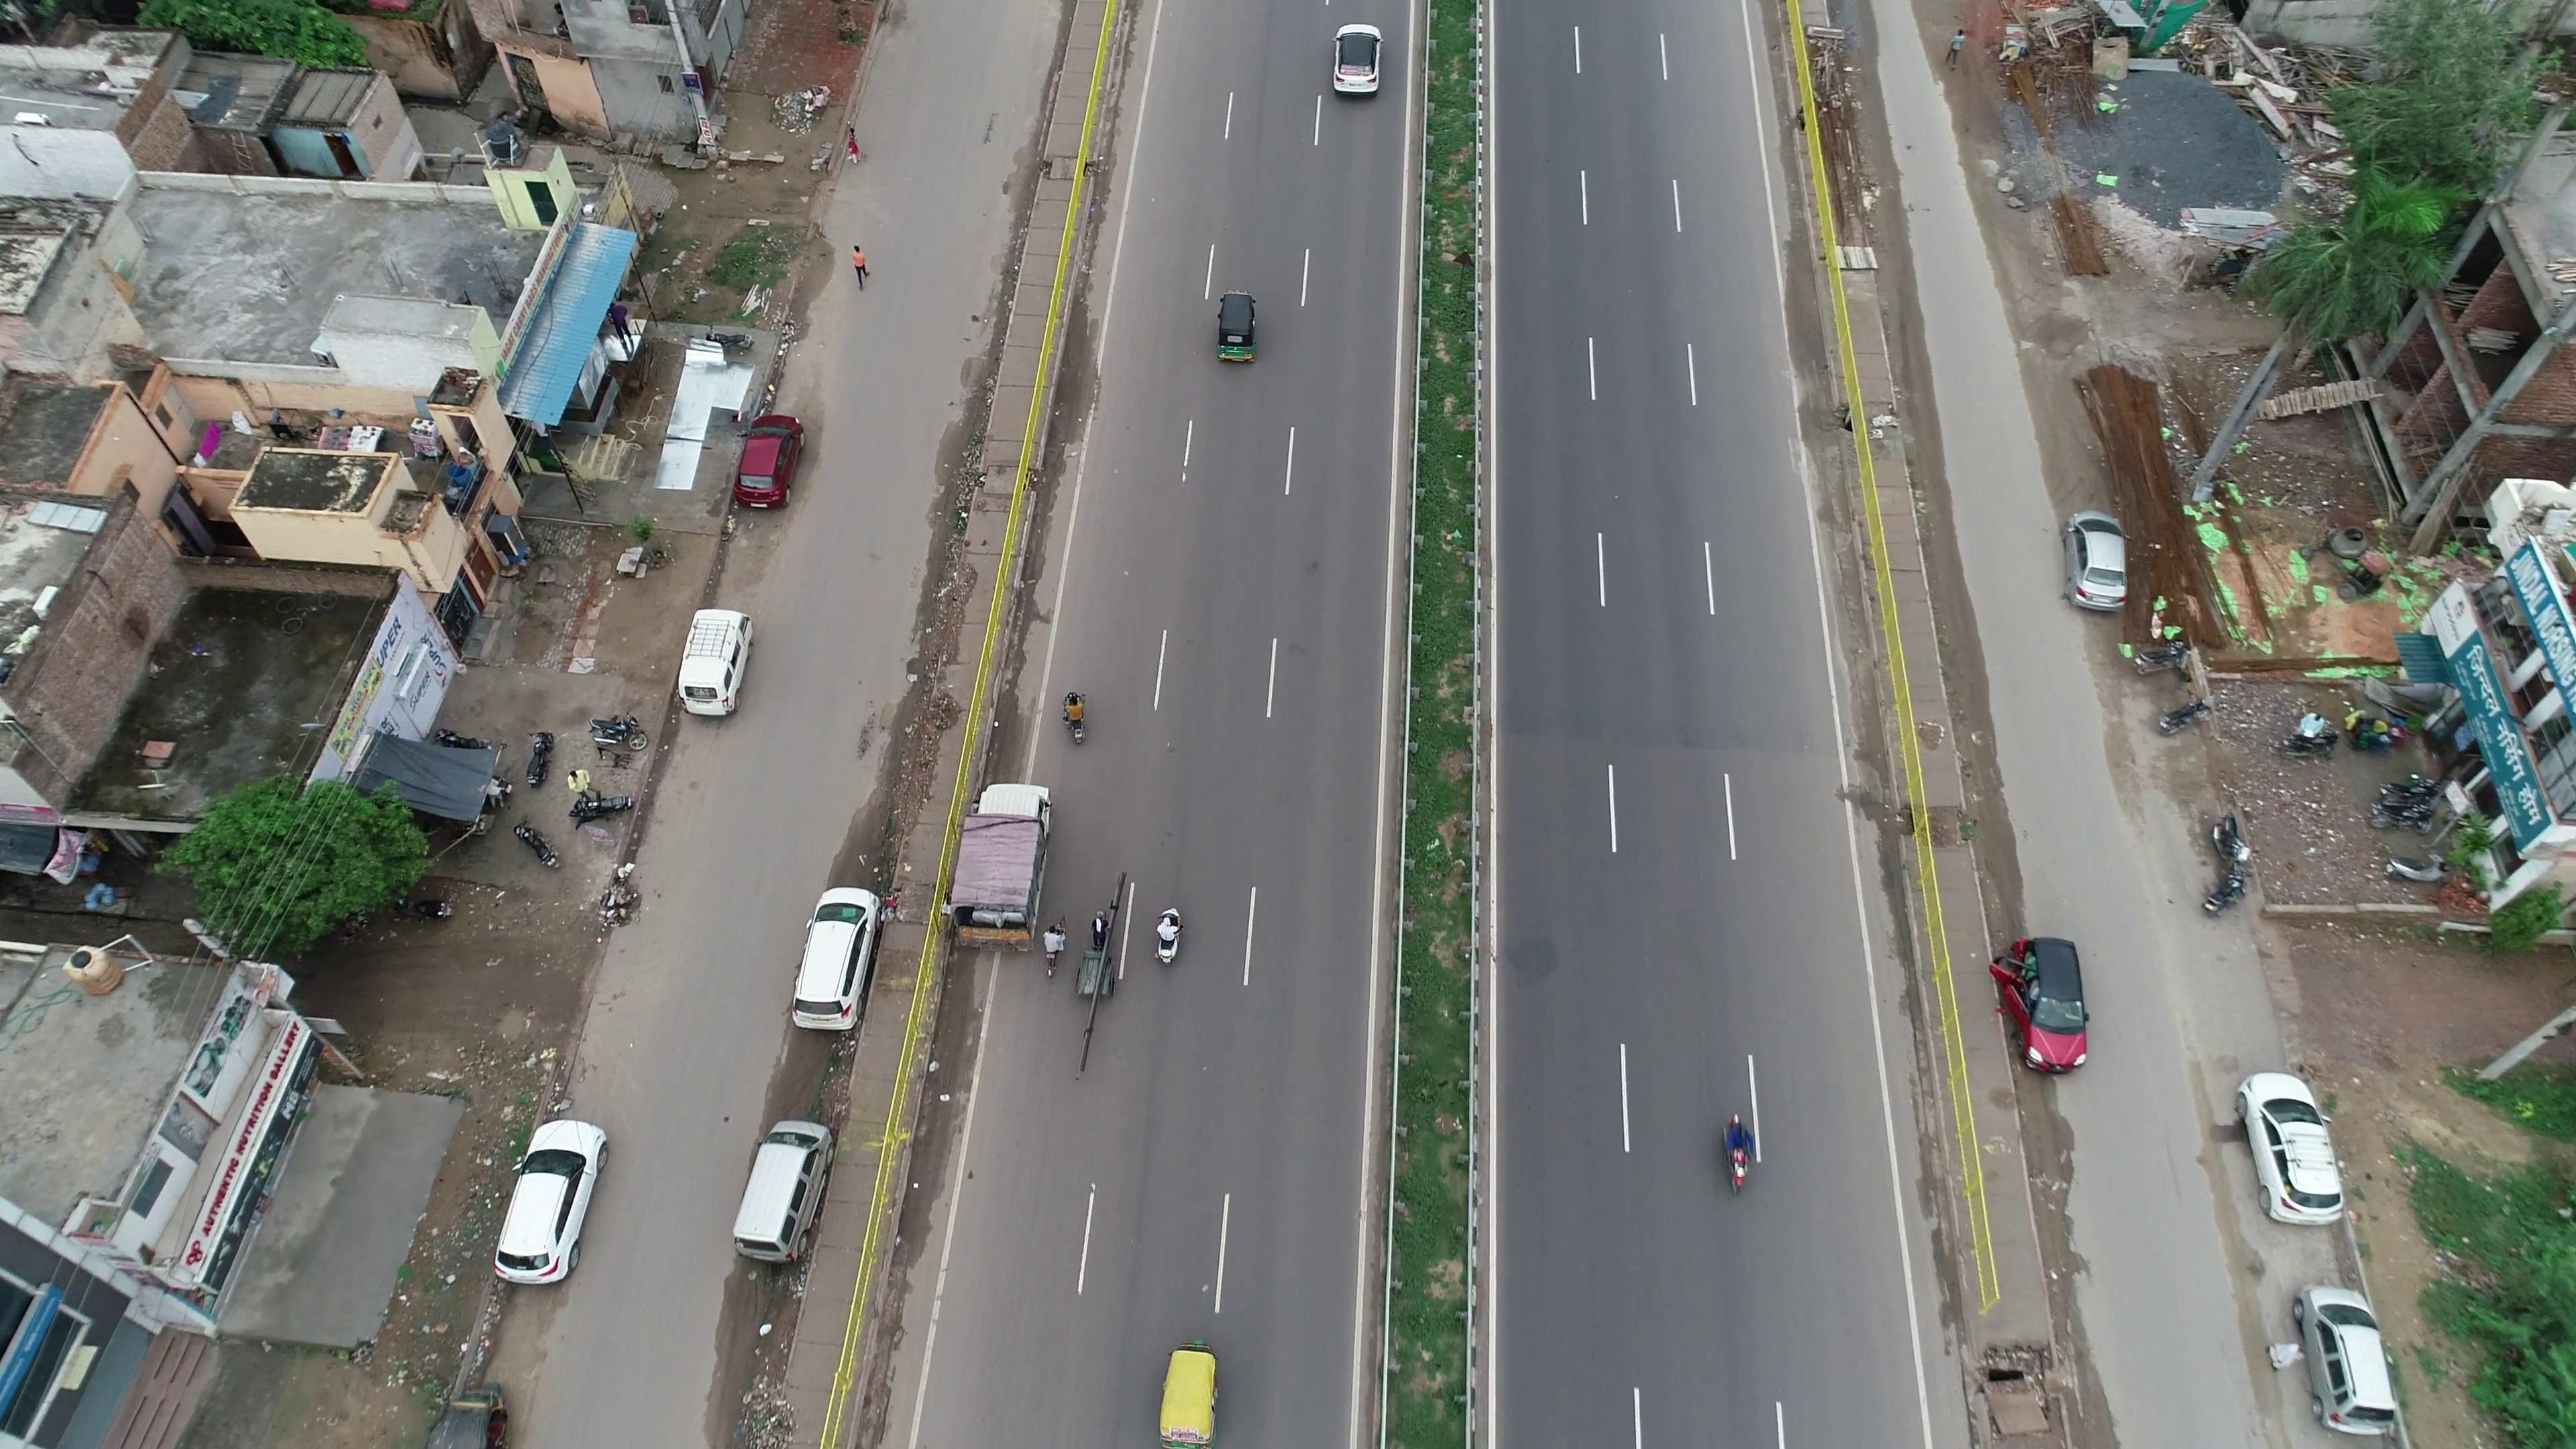Muddy_road: (1928, 536, 2012, 752)
